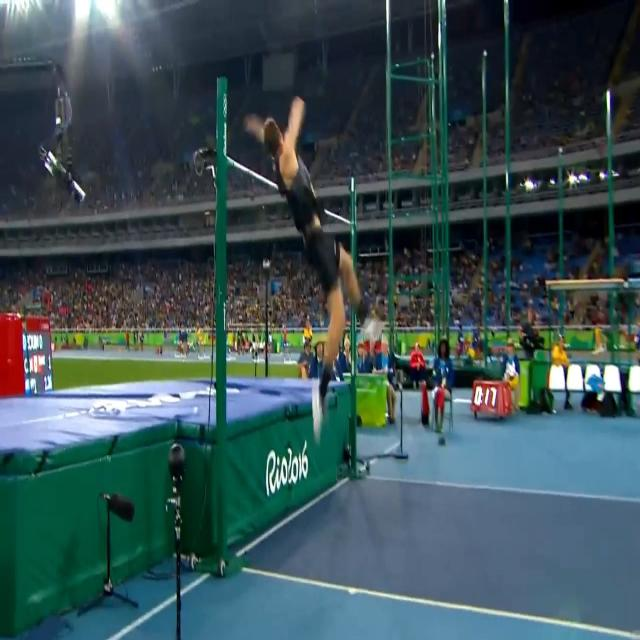jump: (244, 94, 382, 447)
